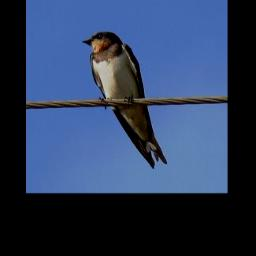Swallow: (80, 30, 168, 168)
